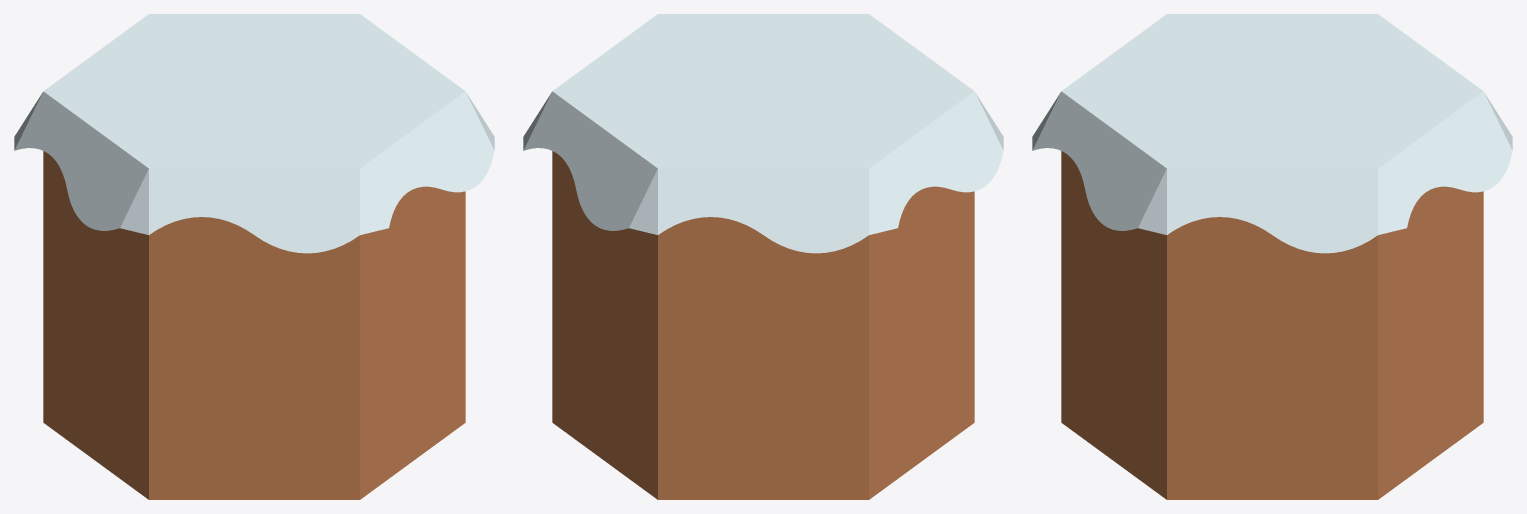
File: blockSnowHexagon.fbx
3 views of the same model, side by side, from view 1: azimuth 30°, elevation 25°; view 2: azimuth 150°, elevation 25°; view 3: azimuth 270°, elevation 25° (orthographic).
Visible parts, largest first — view 1: blockSnowHexagon; view 2: blockSnowHexagon; view 3: blockSnowHexagon.
Part boxes in pixels (bbox=[...]): blockSnowHexagon: bbox=[14, 14, 494, 499]; blockSnowHexagon: bbox=[523, 14, 1003, 499]; blockSnowHexagon: bbox=[1032, 14, 1512, 499].
Size of the model in its own units: 12.33 by 10 by 13.13.
